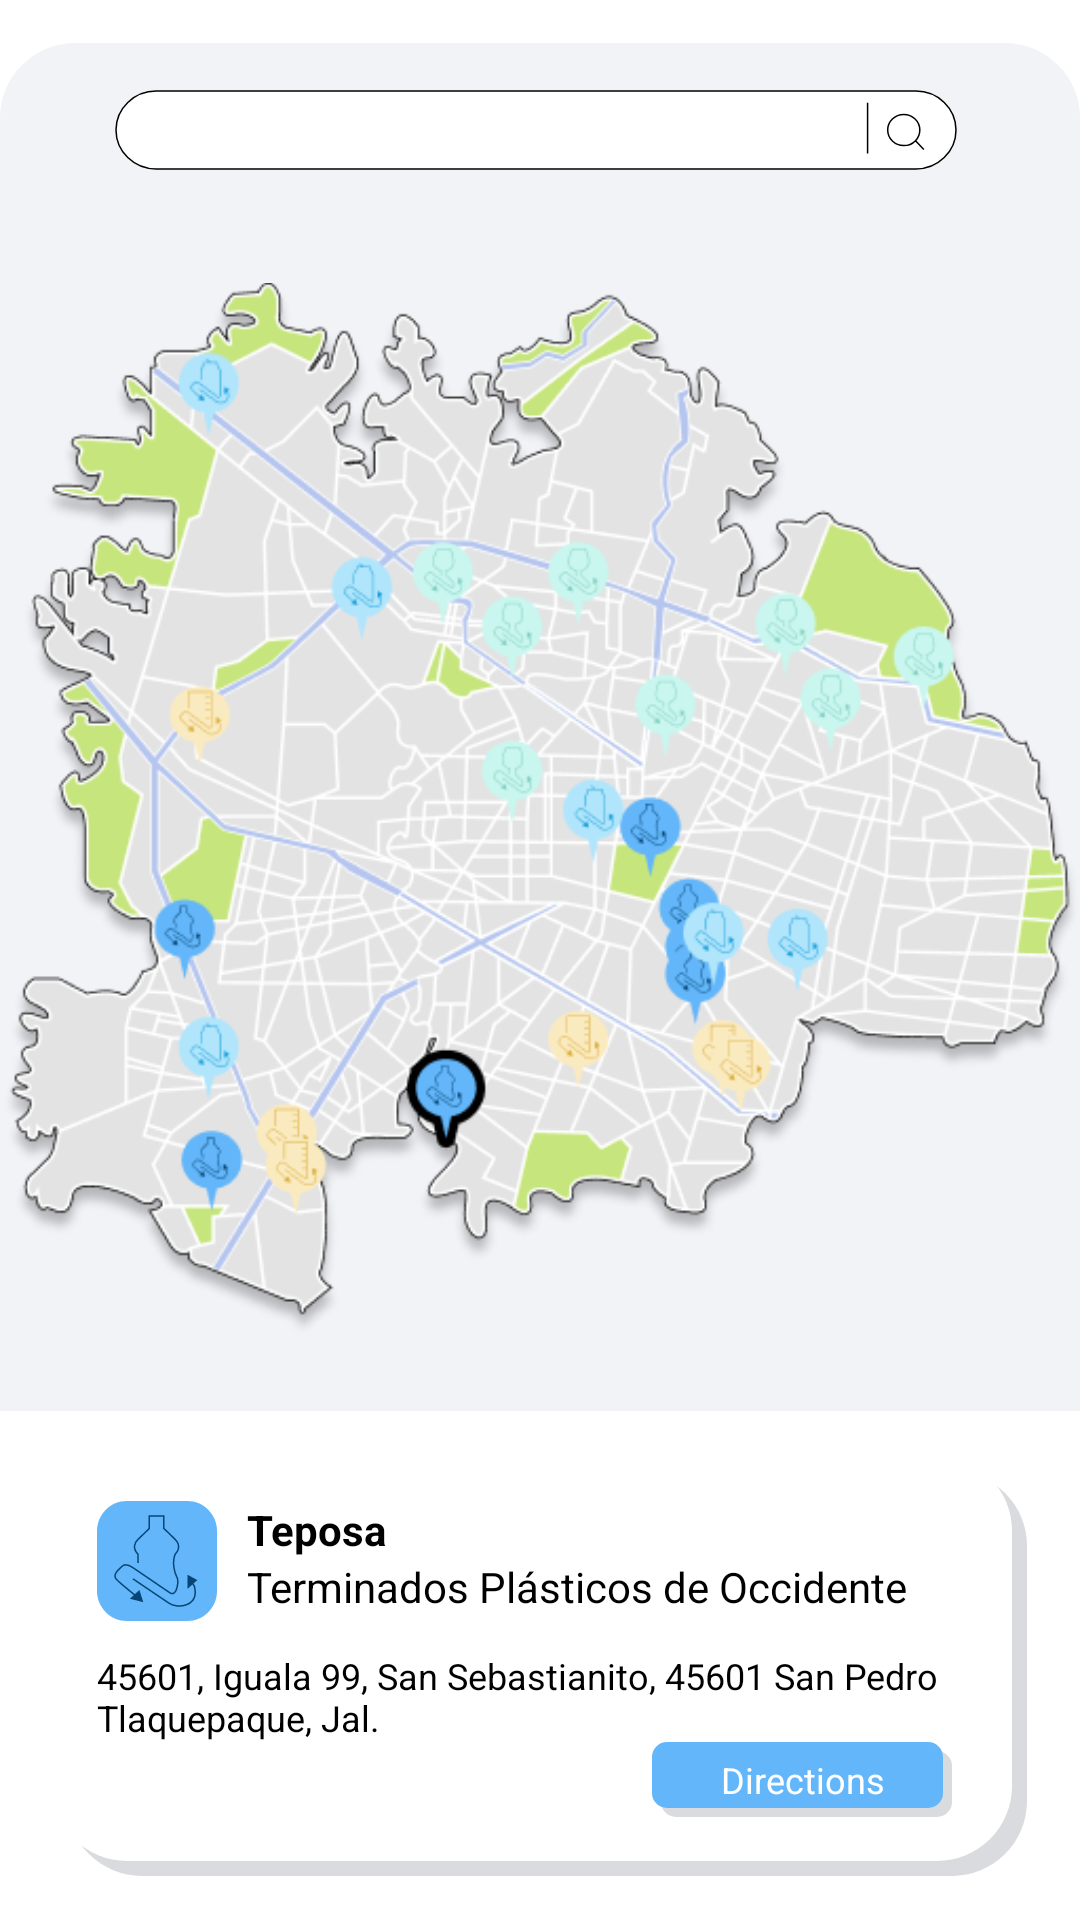

Screen size 1080px×1920px. Icon name, then its center in pixels as (x,y):
plastic: (157,1561)
